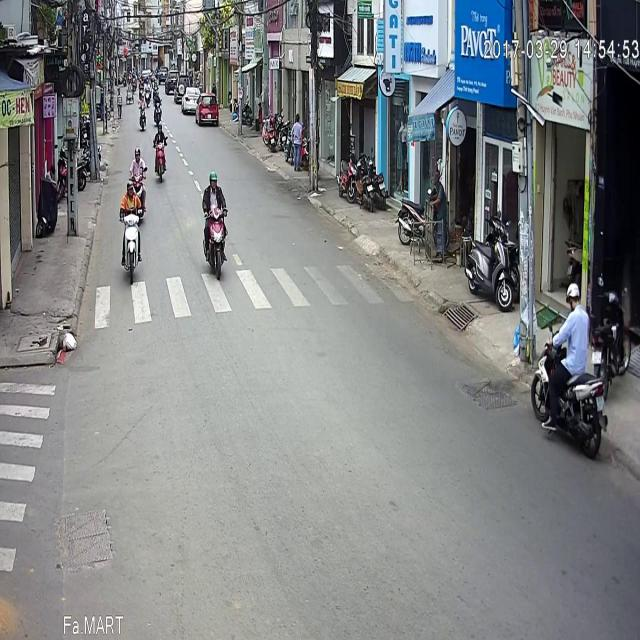car: (196, 34, 218, 68)
motorcycle: (530, 223, 608, 400), (201, 112, 228, 223), (118, 122, 142, 228), (129, 89, 147, 156), (152, 65, 168, 125), (152, 32, 162, 67), (138, 35, 146, 73)
